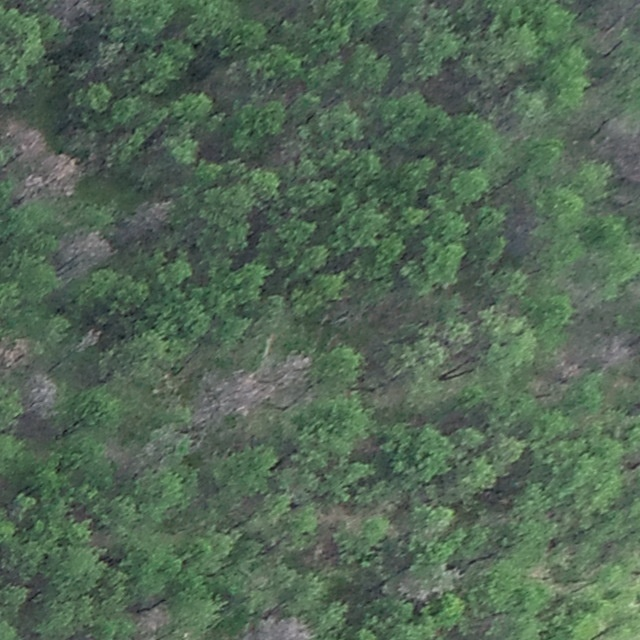unhealthy: (193, 369, 270, 427), (56, 226, 112, 278), (121, 196, 175, 239), (270, 351, 313, 404), (40, 153, 83, 198), (247, 615, 317, 640), (596, 330, 639, 370), (8, 121, 50, 161), (45, 0, 107, 24), (24, 371, 59, 412), (132, 602, 171, 636), (0, 335, 34, 369), (555, 349, 588, 379), (14, 172, 45, 203), (397, 573, 429, 600), (77, 325, 105, 351)
